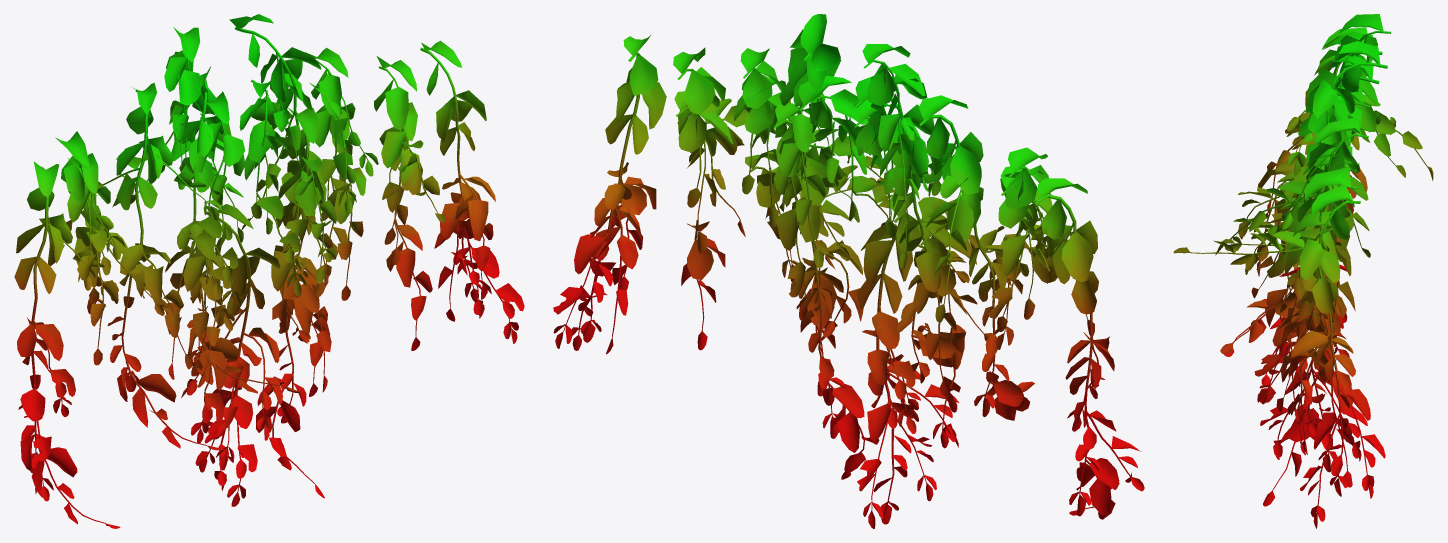
The model's file is Var6_LOD1.fbx.
3 renders of one model, left to right at view 1: azimuth 30°, elevation 25°; view 2: azimuth 150°, elevation 25°; view 3: azimuth 270°, elevation 25°, orthographic. The views are drawn at different scales.
Visible parts, largest first — view 1: _s0br_Var6_LOD1; view 2: _s0br_Var6_LOD1; view 3: _s0br_Var6_LOD1.
Part boxes in pixels (<box>): _s0br_Var6_LOD1: <box>14,14,524,528</box>; _s0br_Var6_LOD1: <box>553,14,1144,528</box>; _s0br_Var6_LOD1: <box>1173,14,1433,528</box>.
Size of the model in its own units: 110 by 95.76 by 50.11.
